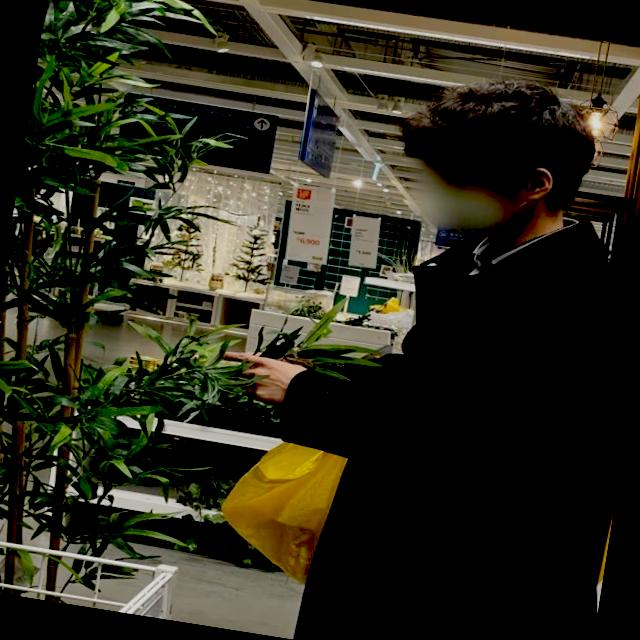coat: (243, 178, 640, 640)
